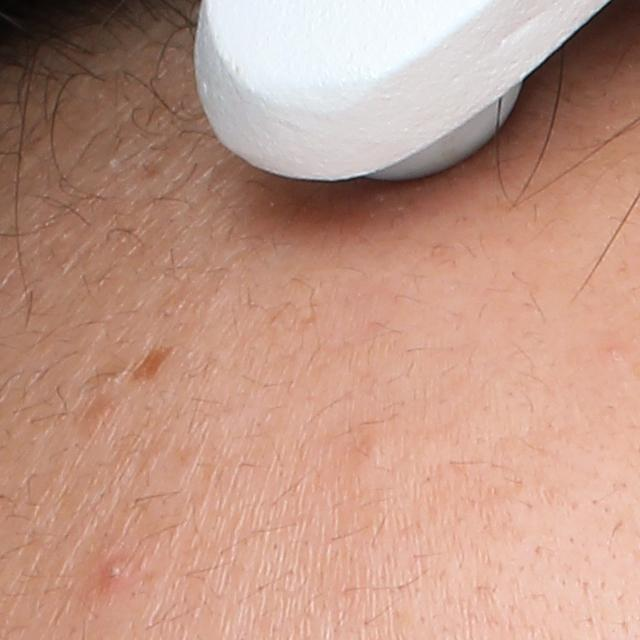comedo: (355, 435, 386, 465)
melasma: (129, 346, 178, 385)
